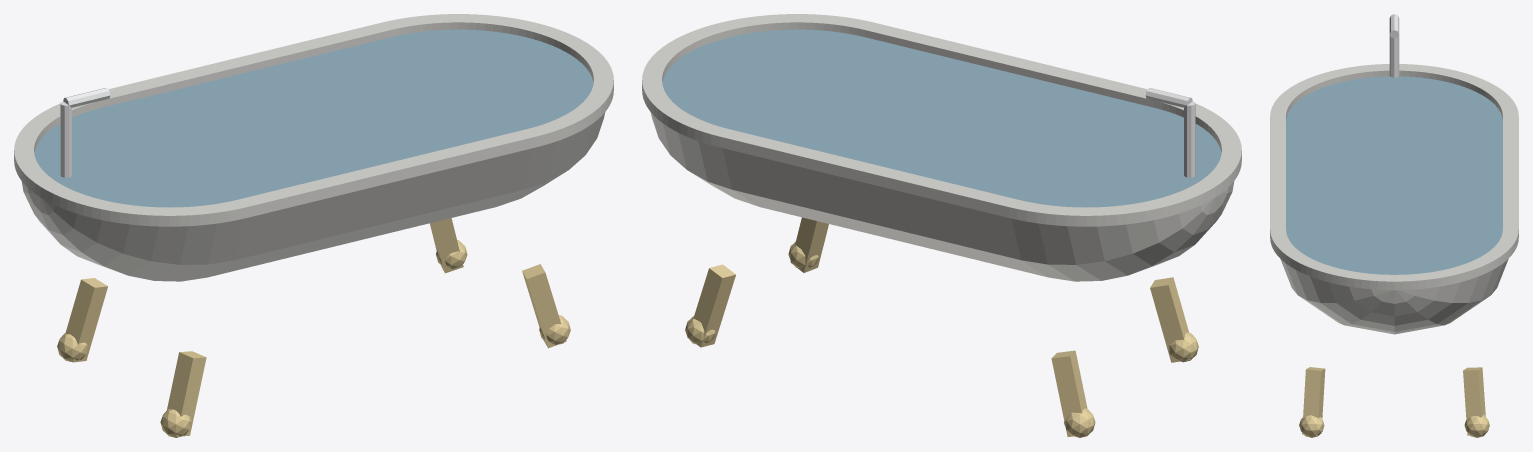
File: clawfoot_tub.glb
3 renders of one model, left to right at view 1: azimuth 30°, elevation 25°; view 2: azimuth 150°, elevation 25°; view 3: azimuth 270°, elevation 25°, orthographic. The views are drawn at different scales.
Parts seen in each view (by area): view 1: clawfoot_tub_water, clawfoot_tub_enamel, clawfoot_tub_brass, clawfoot_tub_chrome; view 2: clawfoot_tub_water, clawfoot_tub_enamel, clawfoot_tub_brass, clawfoot_tub_chrome; view 3: clawfoot_tub_water, clawfoot_tub_enamel, clawfoot_tub_brass, clawfoot_tub_chrome.
Part boxes in pixels (box(x1,y1,x2,y2)): clawfoot_tub_water: box(34, 29, 593, 207); clawfoot_tub_enamel: box(14, 14, 613, 281); clawfoot_tub_brass: box(57, 218, 570, 437); clawfoot_tub_chrome: box(60, 88, 110, 177); clawfoot_tub_water: box(662, 29, 1221, 207); clawfoot_tub_enamel: box(642, 14, 1241, 281); clawfoot_tub_brass: box(685, 217, 1198, 437); clawfoot_tub_chrome: box(1145, 88, 1195, 177); clawfoot_tub_water: box(1286, 76, 1502, 274); clawfoot_tub_enamel: box(1270, 64, 1518, 334); clawfoot_tub_brass: box(1299, 367, 1489, 437); clawfoot_tub_chrome: box(1389, 14, 1399, 77).
Bounding box in the file's own units: 1.62 × 0.875 × 0.782.
